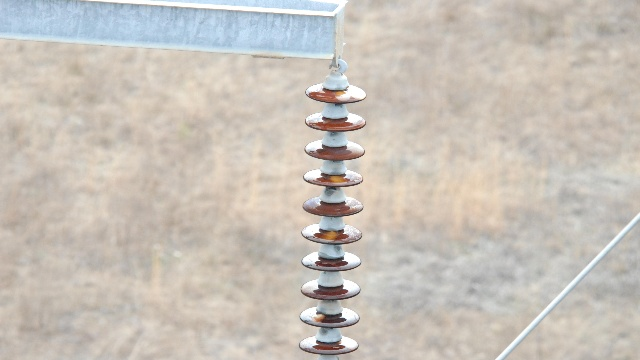insulator_unspecified: (299, 82, 366, 354)
pollution_flashover_local: (318, 227, 339, 245), (307, 309, 327, 324), (333, 89, 352, 102), (329, 173, 347, 185)
